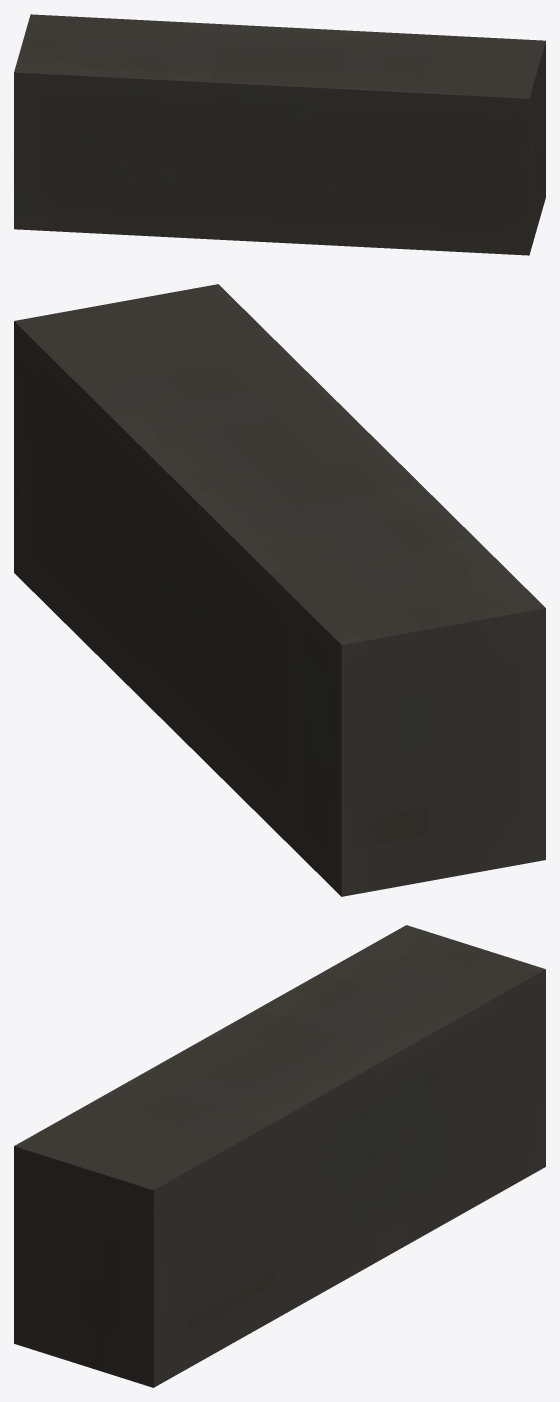
File: frame__rear_link_pos.glb
3 views of the same model, one above another, from view 1: azimuth 30°, elevation 25°; view 2: azimuth 150°, elevation 25°; view 3: azimuth 270°, elevation 25° (orthographic). The views are drawn at different scales.
Visible parts, largest first — view 1: world; view 2: world; view 3: world.
Part boxes in pixels (x1,y1,x2,y2): world: [14, 14, 545, 255]; world: [14, 284, 545, 896]; world: [14, 925, 545, 1387].
Size of the model in its own units: 0.144 by 0.05 by 0.122.
1 material, 1 textured.
